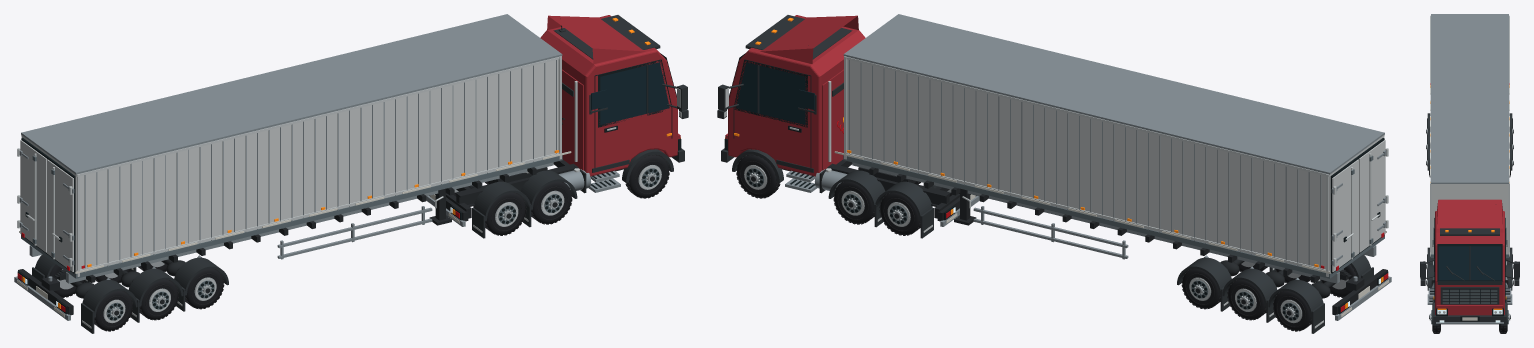
Rendered from tractor-trailer.glb.
The picture shows the model from 3 angles, left to right: view 1: azimuth 30°, elevation 25°; view 2: azimuth 150°, elevation 25°; view 3: azimuth 270°, elevation 25°; orthographic projection. The views are drawn at different scales.
Visible parts, largest first — view 1: Cargo aluminium, Galvanised steel, Cab paint, Graphite trim, Polished metal, Tyre rubber, Black chassis steel, Cargo understructure, Smoked cab glass, Panel gaps, Tyre tread, Blank licence plate (+1 smaller); view 2: Cargo aluminium, Galvanised steel, Cab paint, Graphite trim, Polished metal, Tyre rubber, Black chassis steel, Cargo understructure, Smoked cab glass, Panel gaps, Tyre tread, Blank licence plate (+1 smaller); view 3: Galvanised steel, Cab paint, Graphite trim, Smoked cab glass, Cargo aluminium, Panel gaps, Polished metal, Cargo understructure, Tyre rubber, Blank licence plate, Wheel alloy, Amber lens (+3 smaller).
Boxes of the visible parts, x1=… form: Cargo aluminium: x1=20, y1=59, x2=558, y2=328; Galvanised steel: x1=14, y1=14, x2=620, y2=320; Cab paint: x1=540, y1=15, x2=680, y2=176; Graphite trim: x1=32, y1=15, x2=688, y2=333; Polished metal: x1=17, y1=56, x2=681, y2=322; Tyre rubber: x1=50, y1=154, x2=668, y2=330; Black chassis steel: x1=18, y1=18, x2=663, y2=315; Cargo understructure: x1=21, y1=155, x2=659, y2=320; Smoked cab glass: x1=591, y1=62, x2=676, y2=124; Panel gaps: x1=17, y1=53, x2=681, y2=320; Tyre tread: x1=49, y1=154, x2=669, y2=331; Blank licence plate: x1=17, y1=151, x2=571, y2=317; Cargo aluminium: x1=847, y1=59, x2=1385, y2=328; Galvanised steel: x1=785, y1=14, x2=1391, y2=320; Cab paint: x1=725, y1=15, x2=865, y2=176; Graphite trim: x1=717, y1=15, x2=1373, y2=333; Polished metal: x1=724, y1=56, x2=1388, y2=322; Tyre rubber: x1=737, y1=154, x2=1355, y2=330; Black chassis steel: x1=742, y1=45, x2=1387, y2=315; Cargo understructure: x1=746, y1=155, x2=1384, y2=320; Smoked cab glass: x1=729, y1=62, x2=814, y2=124; Panel gaps: x1=724, y1=53, x2=1388, y2=320; Tyre tread: x1=736, y1=154, x2=1356, y2=331; Blank licence plate: x1=834, y1=151, x2=1388, y2=317; Galvanised steel: x1=1427, y1=14, x2=1512, y2=323; Cab paint: x1=1435, y1=199, x2=1504, y2=315; Graphite trim: x1=1420, y1=113, x2=1519, y2=325; Smoked cab glass: x1=1433, y1=228, x2=1506, y2=280; Cargo aluminium: x1=1431, y1=184, x2=1508, y2=254; Panel gaps: x1=1429, y1=218, x2=1510, y2=323; Polished metal: x1=1430, y1=15, x2=1509, y2=320; Cargo understructure: x1=1430, y1=254, x2=1509, y2=323; Tyre rubber: x1=1429, y1=170, x2=1510, y2=333; Blank licence plate: x1=1430, y1=88, x2=1509, y2=320; Wheel alloy: x1=1426, y1=128, x2=1513, y2=320; Amber lens: x1=1430, y1=85, x2=1509, y2=309.
Size of the model in its own units: 16.18 by 4.17 by 3.17.
